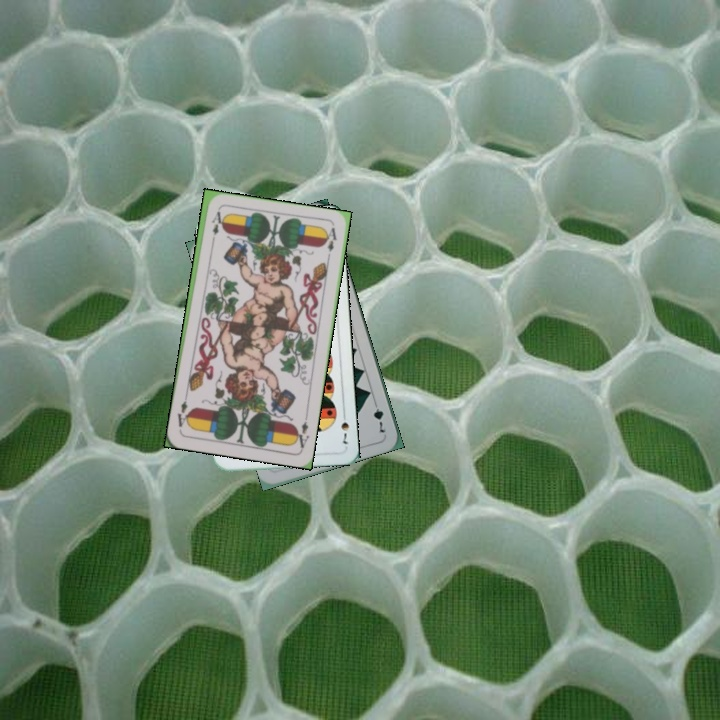EA: (290, 411, 312, 451), (207, 207, 223, 247)
G7: (369, 397, 388, 435)
S7: (337, 408, 352, 448)
